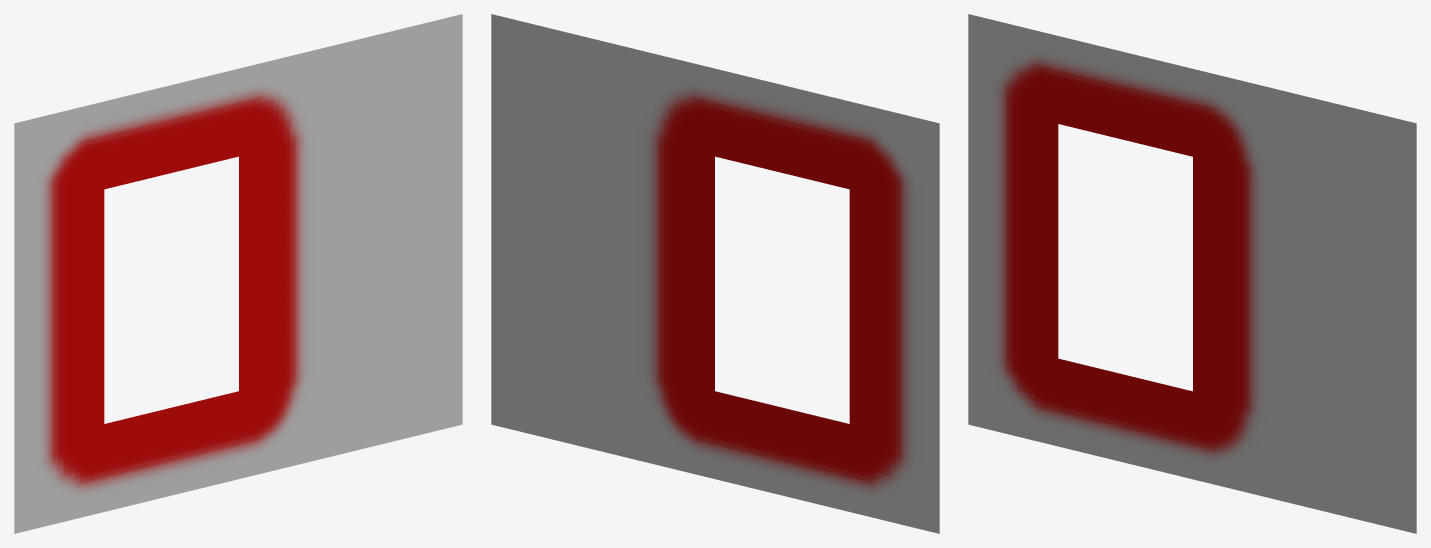
The model's file is wall_window_400x350_02.fbx.
3 renders of one model, left to right at view 1: azimuth 30°, elevation 25°; view 2: azimuth 150°, elevation 25°; view 3: azimuth 330°, elevation 25°, orthographic.
Parts seen in each view (by area): view 1: wall_window_400x350_02; view 2: wall_window_400x350_02; view 3: wall_window_400x350_02.
Part boxes in pixels (x1,y1,x2,y2): wall_window_400x350_02: (14, 14, 462, 533); wall_window_400x350_02: (491, 14, 939, 533); wall_window_400x350_02: (968, 14, 1416, 533).
Bounding box in the file's own units: 4 × 3.5 × 0.
